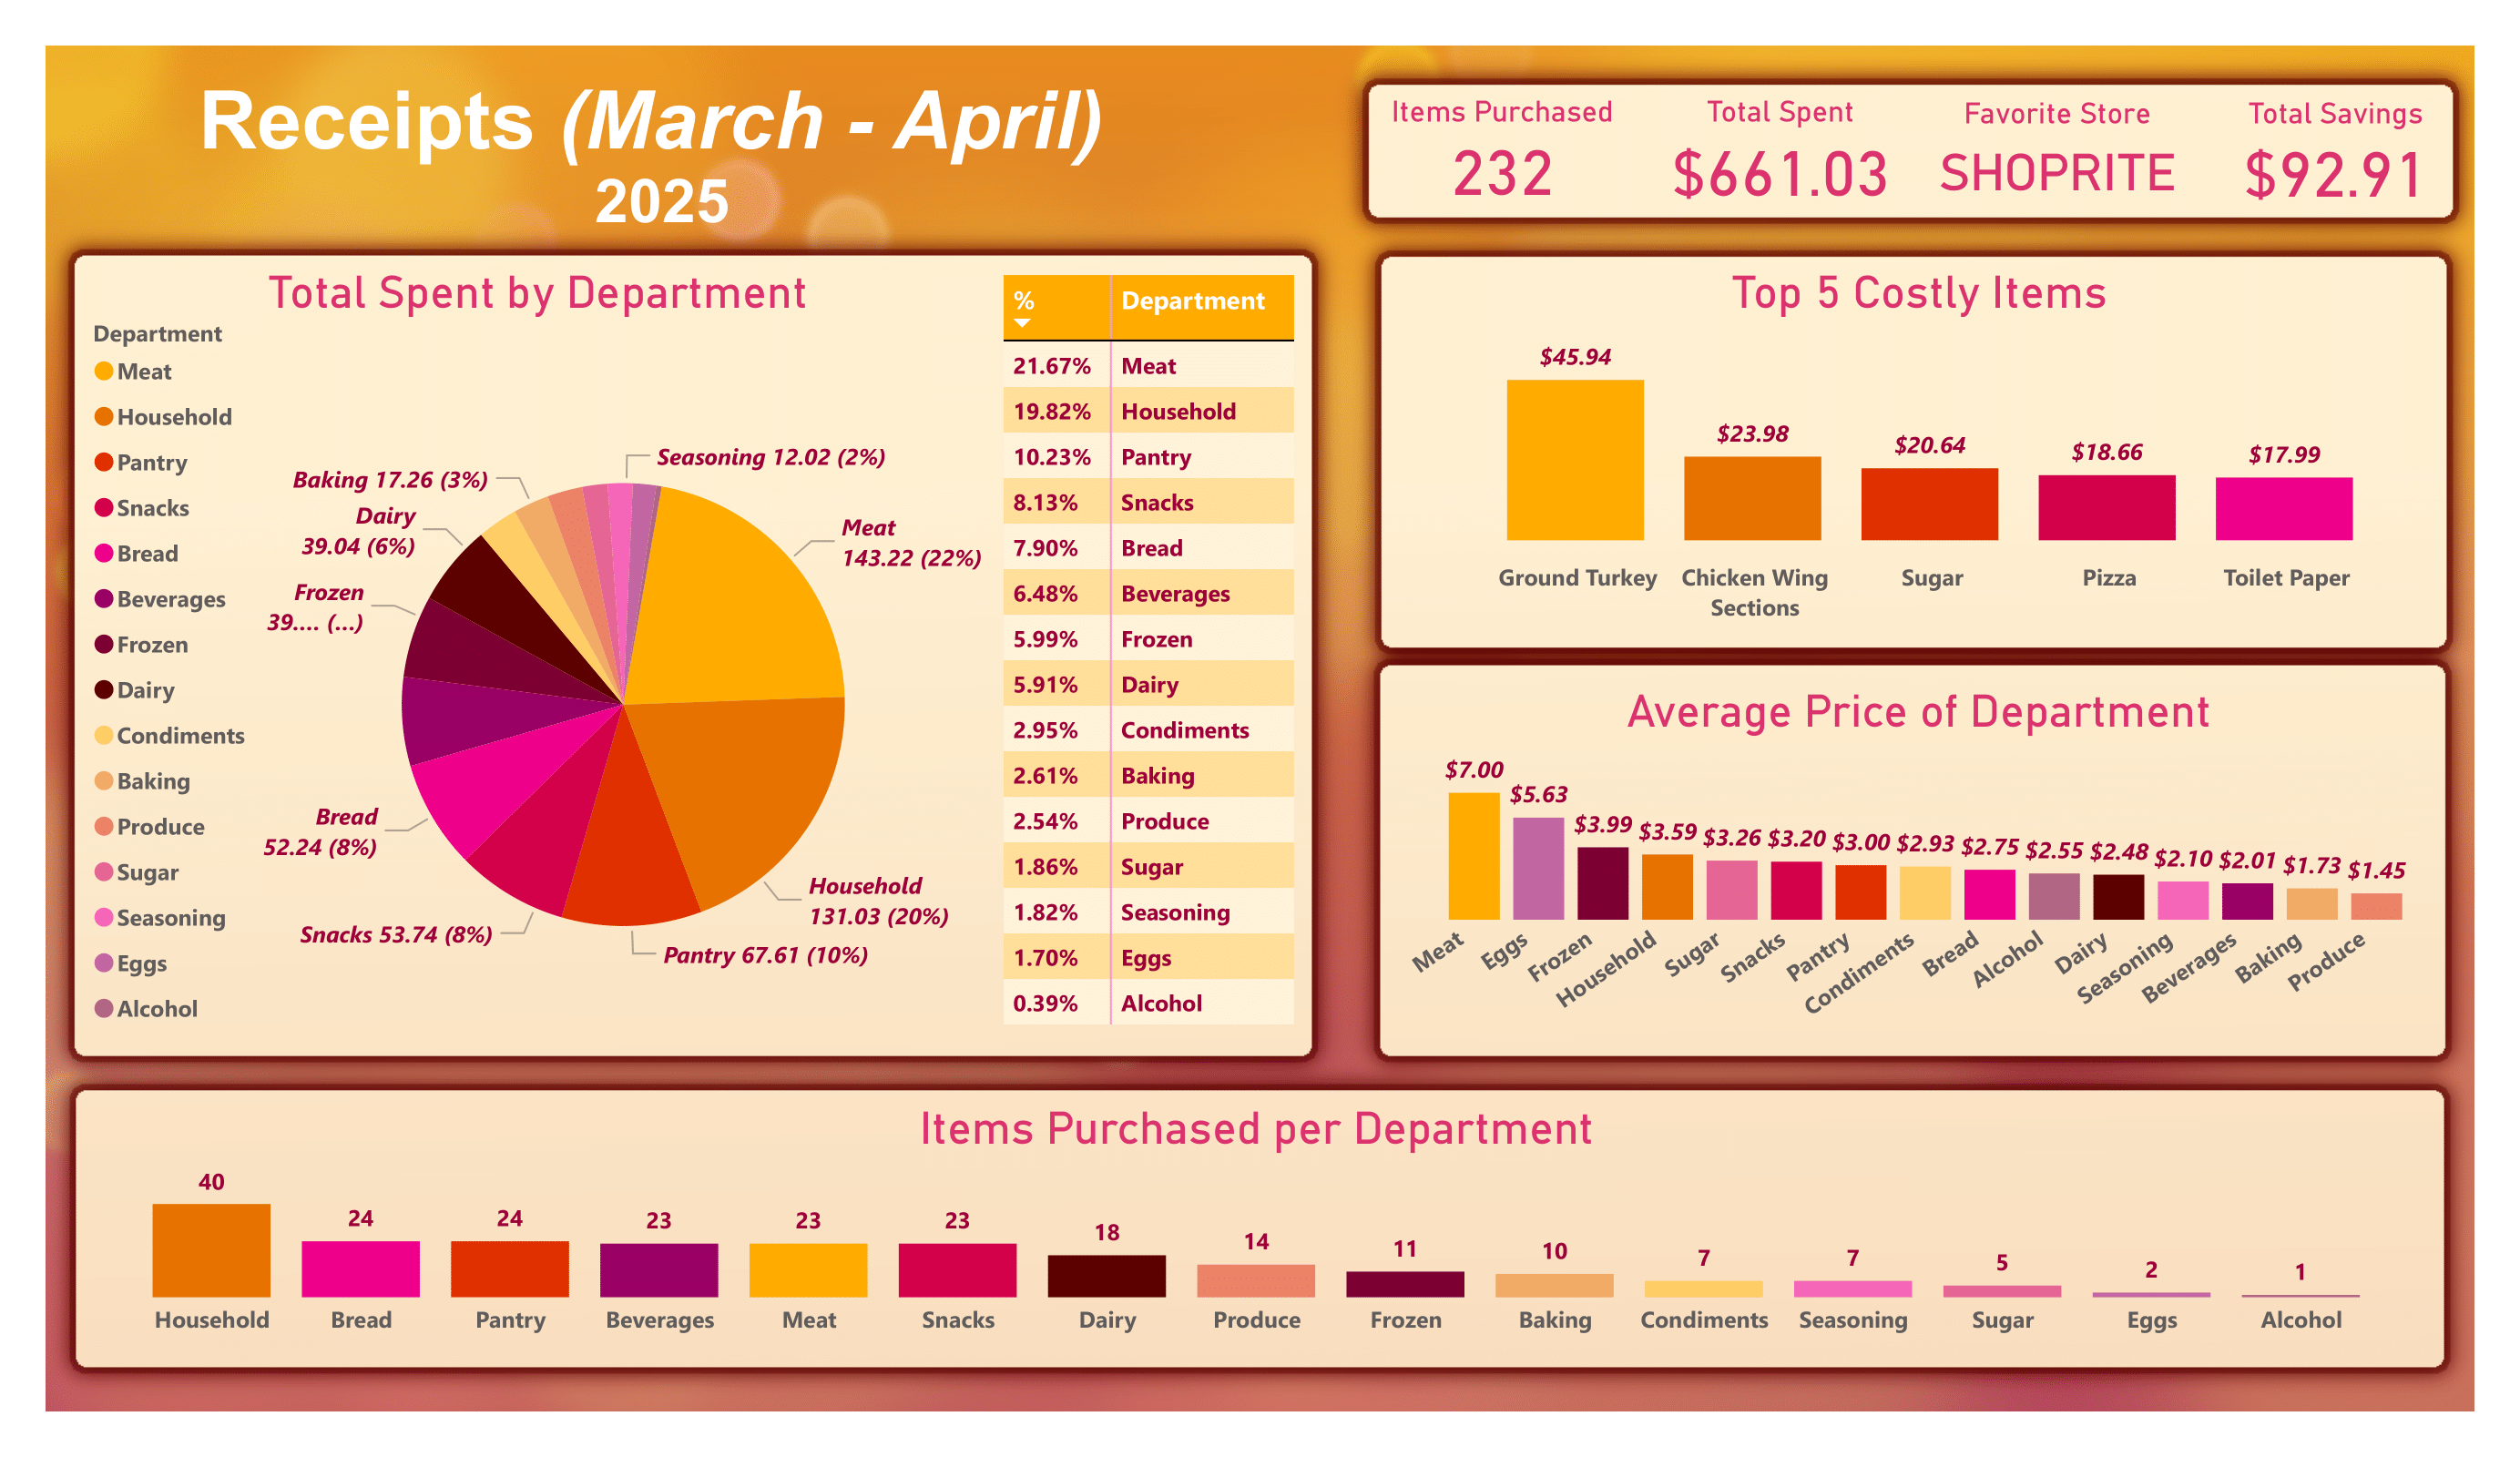

The dashboard page shown, as its layout file describes it:
{"tool":"powerbi","page":{"name":"Reciepts2025Report","canvas":[1280,720],"ordinal":0},"visuals":[{"type":"textbox","box":[20,10,610,95.7],"z":0},{"type":"card","title":"Items Purchased","fields":{"Values":["CountNonNull(receipts.item_name)"]},"box":[700,25,136.4,65],"z":1000,"group":"g1"},{"type":"pieChart","title":"Total Spent by Department","fields":{"Category":["receipts.department"],"Series":["receipts.department"],"Y":["Sum(receipts.final_price)"]},"box":[20,116,479,441],"z":1000},{"type":"columnChart","title":"Top 5 Costly Items","fields":{"Series":["receipts.item_name"],"Category":["receipts.item_name"],"Y":["Sum(receipts.price)"]},"box":[714,116,547,196],"z":2000},{"type":"columnChart","title":"Average Price of Department","fields":{"Category":["receipts.department"],"Y":["Avg(receipts.price)"],"Series":["receipts.department"]},"box":[714.4,336.7,546.7,195.6],"z":3000},{"type":"columnChart","title":"Items Purchased per Department","fields":{"Category":["receipts.department"],"Y":["CountNonNull(receipts.item_name)"],"Series":["receipts.department"]},"box":[20,557.1,1237.1,132.9],"z":4000},{"type":"card","title":"Total Spent","fields":{"Values":["Sum(receipts.final_price)"]},"box":[846.2,25,136.4,66.2],"z":5000,"group":"g1"},{"type":"group","id":"g1","title":"Group 1","box":[700,25,575,66],"z":5000},{"type":"tableEx","fields":{"Values":["Divide(Sum(receipts.final_price), ScopedEval(Sum(receipts.final_price), []))","receipts.department"]},"box":[499,116,170,409],"z":6000},{"type":"card","title":"Favorite Store","fields":{"Values":["Min(receipts.store_name)"]},"box":[992.4,26.2,136.4,65],"z":7000,"group":"g1"},{"type":"card","title":"Total Savings","fields":{"Values":["Sum(receipts.sale_amount_positive)"]},"box":[1138.6,26.2,136.4,65],"z":8000,"group":"g1"}]}

Visuals, with their boxes in screenshot pixels (x1, y1, x2, y2):
textbox: pyautogui.locateOnScreen(84, 65, 1241, 246)
"Items Purchased" card: pyautogui.locateOnScreen(1374, 93, 1633, 217)
"Total Spent by Department" pieChart: pyautogui.locateOnScreen(84, 266, 993, 1102)
"Top 5 Costly Items" columnChart: pyautogui.locateOnScreen(1401, 266, 2438, 637)
"Average Price of Department" columnChart: pyautogui.locateOnScreen(1402, 684, 2439, 1055)
"Items Purchased per Department" columnChart: pyautogui.locateOnScreen(84, 1103, 2431, 1355)
"Total Spent" card: pyautogui.locateOnScreen(1651, 93, 1910, 219)
"Group 1" group: pyautogui.locateOnScreen(1374, 93, 2465, 219)
tableEx - Divide(Sum(receipts.final_price), ScopedEval(Sum(receipts.final_price), [])) x receipts.department: pyautogui.locateOnScreen(993, 266, 1315, 1042)
"Favorite Store" card: pyautogui.locateOnScreen(1929, 96, 2188, 219)
"Total Savings" card: pyautogui.locateOnScreen(2206, 96, 2465, 219)
